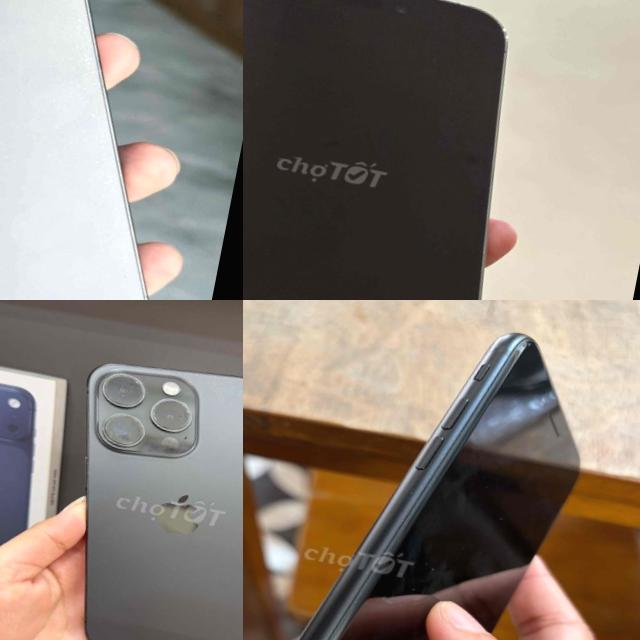gen_14: (243, 0, 549, 300), (0, 0, 239, 300)
gen_15: (42, 339, 243, 640)
scratch: (243, 300, 612, 640)
